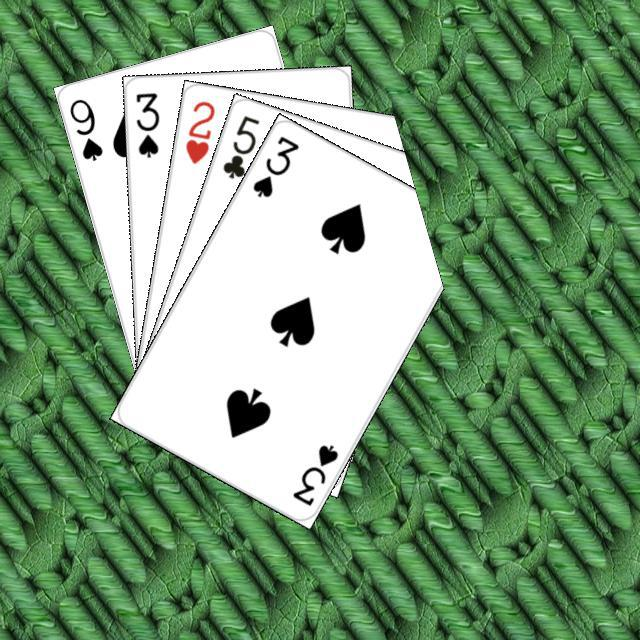2h: (180, 96, 217, 166)
3s: (247, 131, 301, 200), (287, 439, 340, 508), (131, 88, 161, 159)
5c: (217, 110, 261, 181)
9s: (64, 94, 105, 163)
